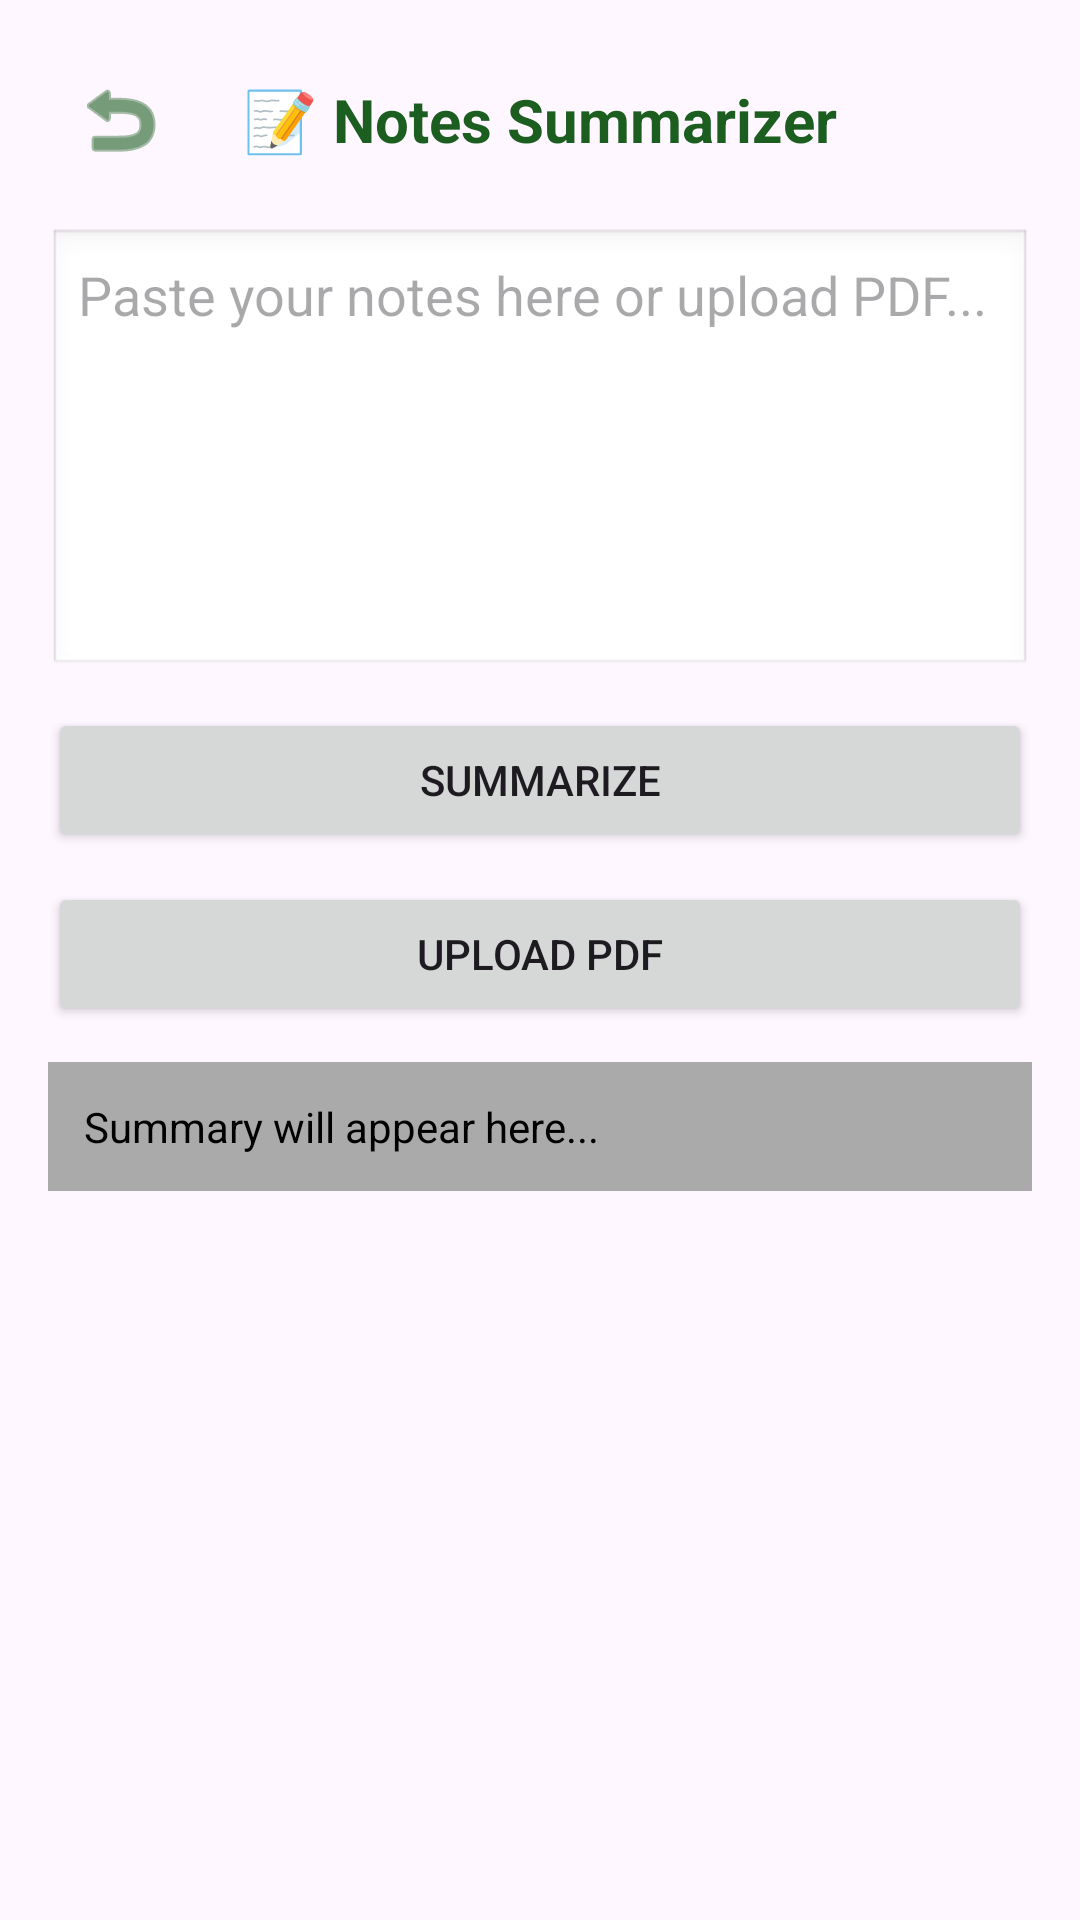

Screen size 1080×1920. Icon name, then its box in pixels as rect(x1, y1, x2, y2):
Go Back: rect(87, 89, 156, 152)
